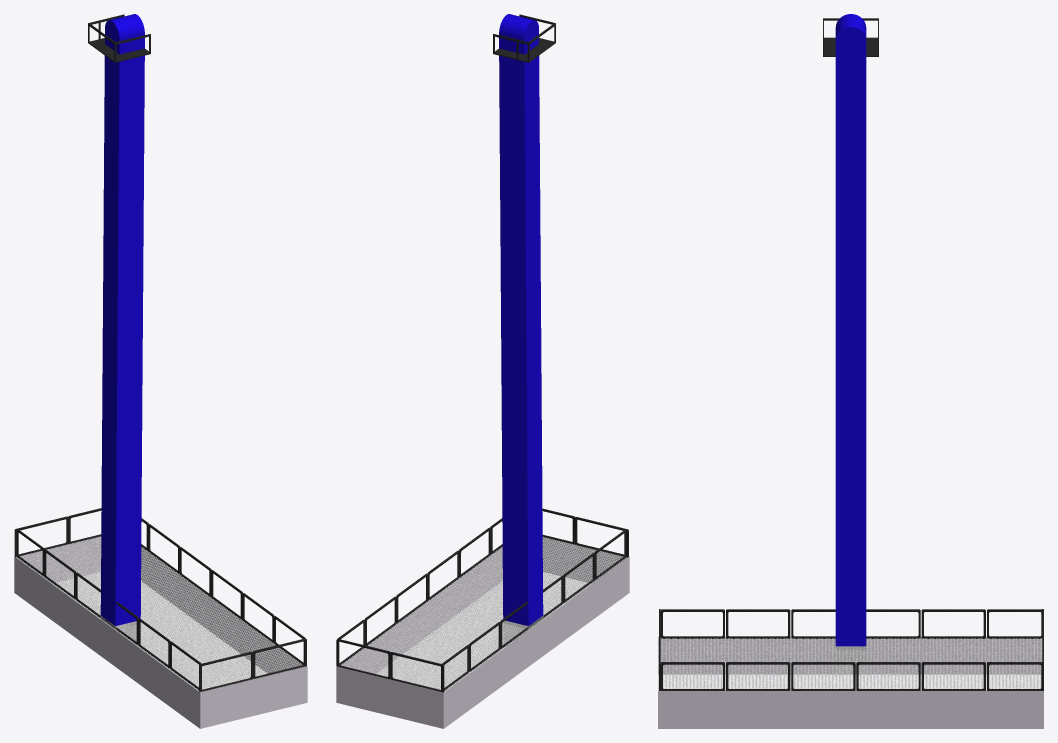
Rendered from kmgspeedbase.glb.
The picture shows the model from 3 angles, left to right: view 1: azimuth 30°, elevation 25°; view 2: azimuth 150°, elevation 25°; view 3: azimuth 270°, elevation 25°; orthographic projection. The views are drawn at different scales.
Parts seen in each view (by area): view 1: Cube; view 2: Cube; view 3: Cube.
Boxes of the visible parts, x1,y1,x2,y2 form: Cube: (14,14,307,728); Cube: (336,14,629,728); Cube: (658,14,1043,728).
Bounding box in the file's own units: 4.22 × 22.76 × 12.
4 materials, 1 textured.
